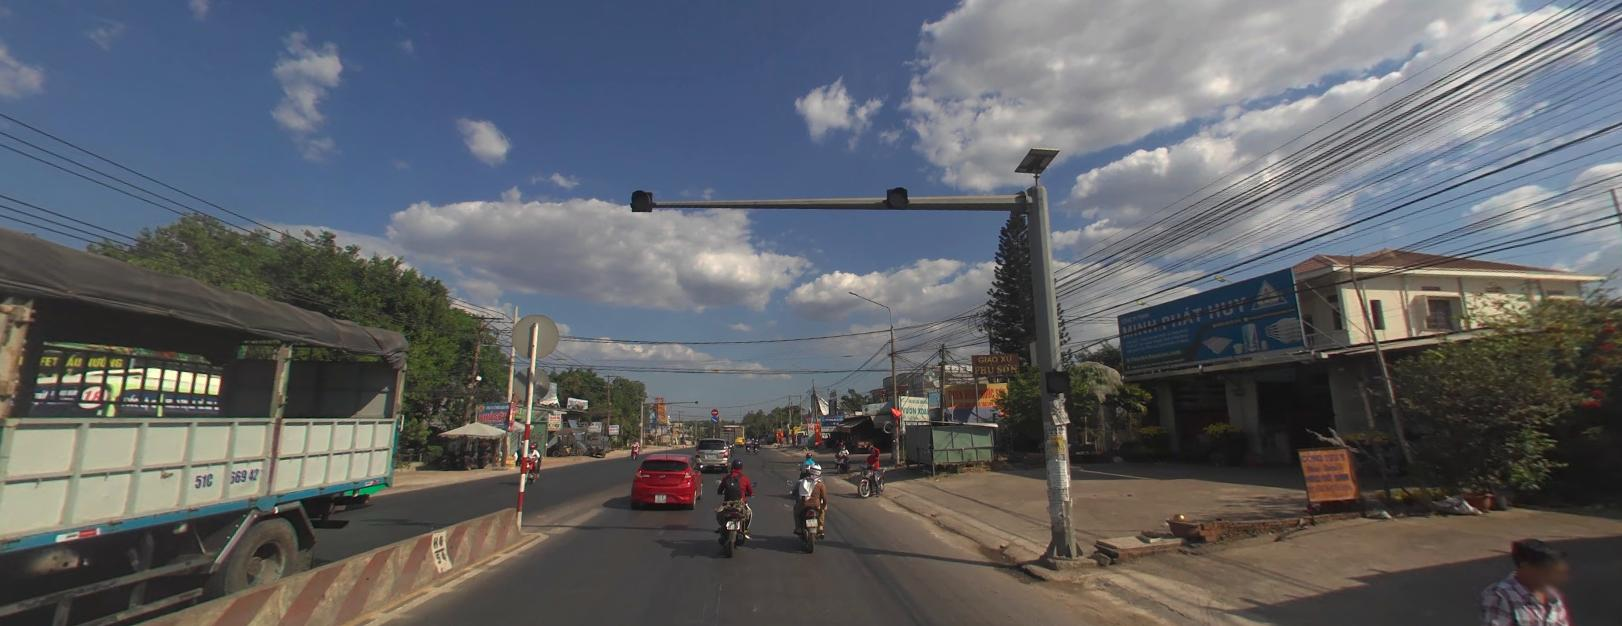Cam nguoc chieu: (711, 407, 717, 413)
Hieu lenh: (711, 414, 717, 421)
